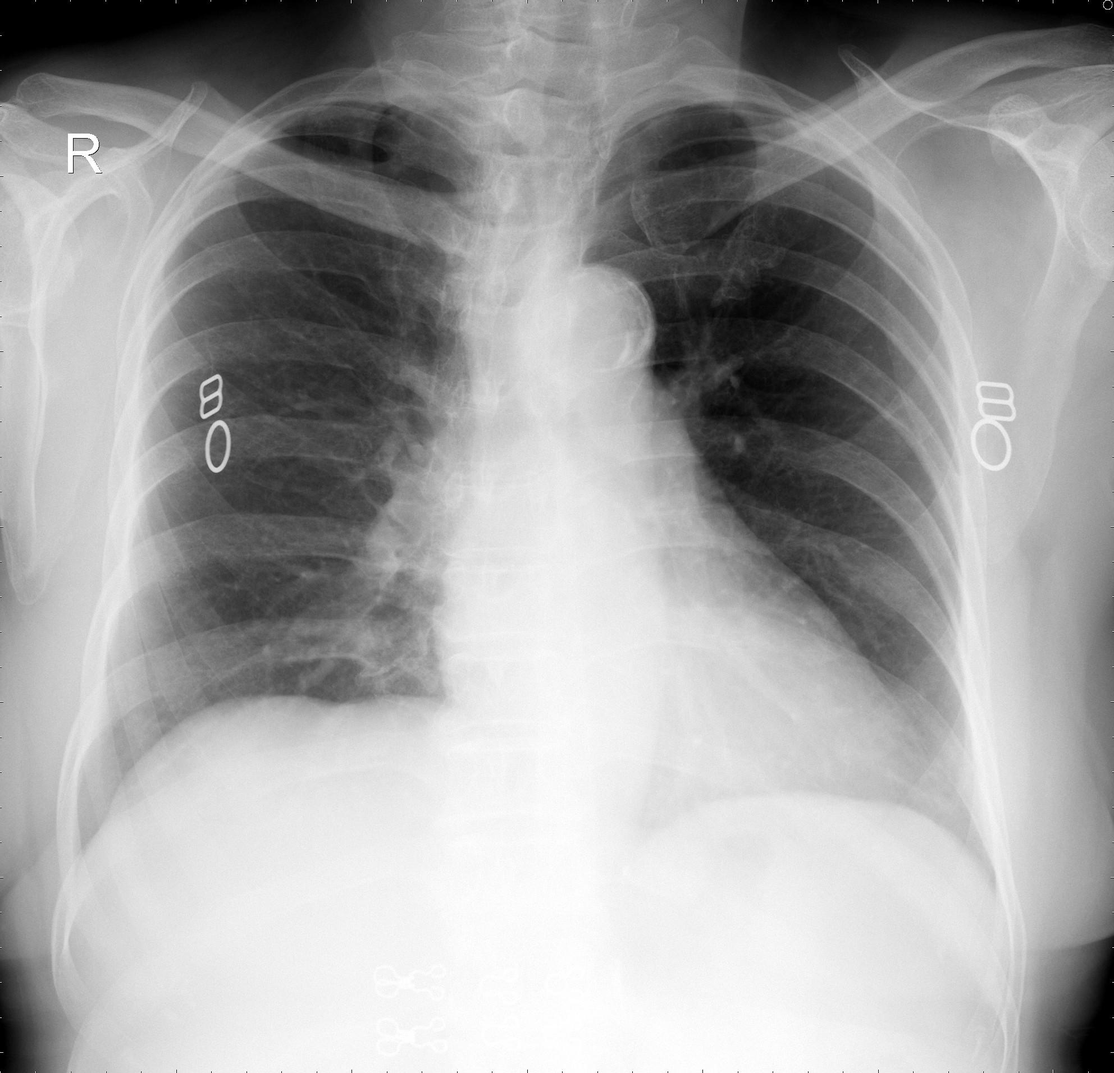Aortic enlargement: (511, 258, 659, 396)
Cardiomegaly: (424, 579, 929, 829)
